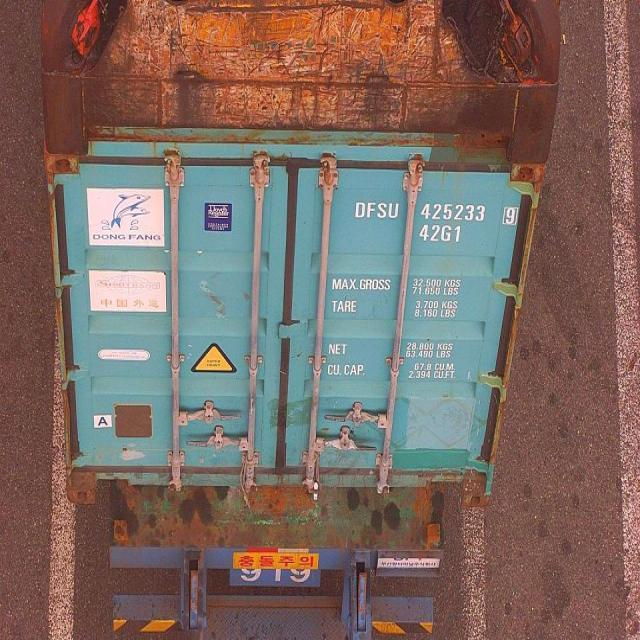ISO: (421, 224, 462, 245)
container_number: (358, 201, 515, 223)
